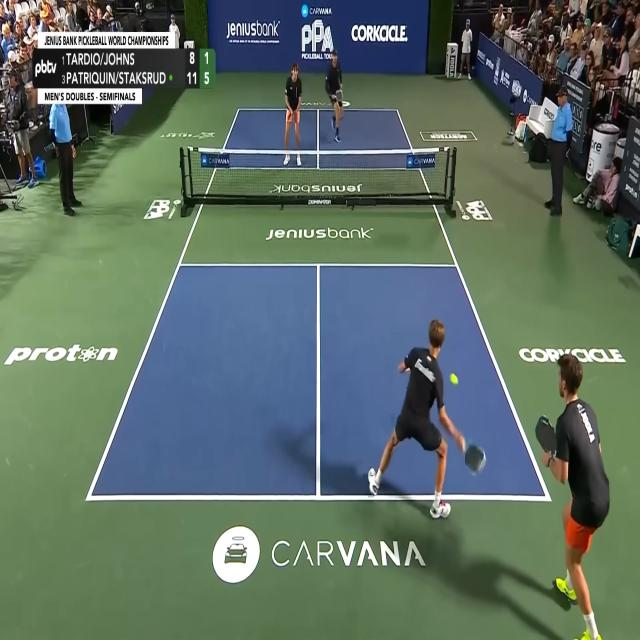ball: (449, 373, 459, 385)
